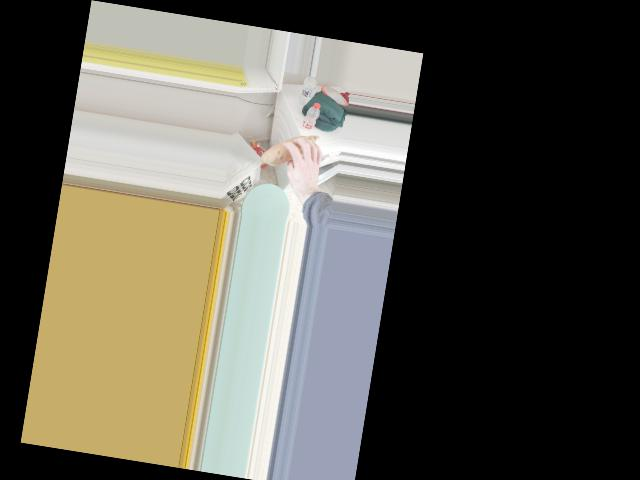sweet_potato: (262, 130, 321, 173)
